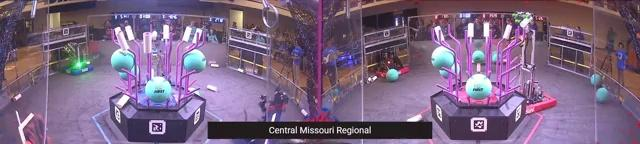reef: (111, 24, 208, 144), (431, 21, 527, 139)
robot: (518, 15, 558, 115), (13, 109, 51, 144), (254, 91, 290, 123), (62, 42, 93, 77), (374, 50, 410, 79)
